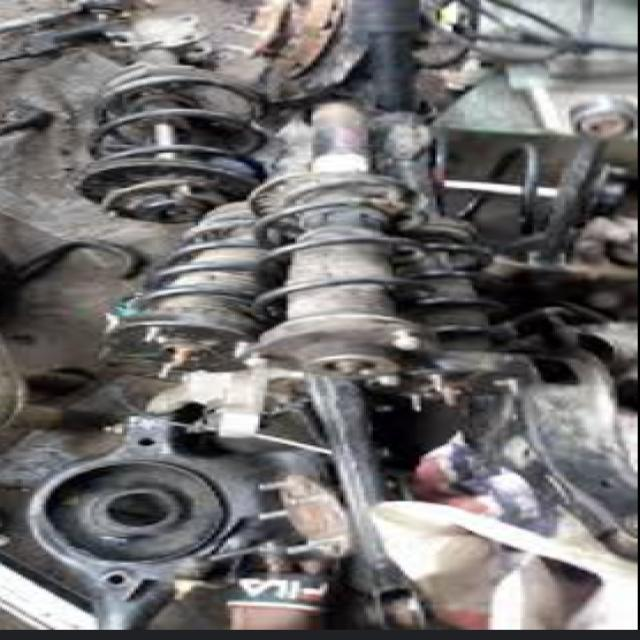shock absorber: (246, 103, 441, 381), (369, 114, 537, 409), (74, 13, 270, 224), (99, 201, 274, 380)
